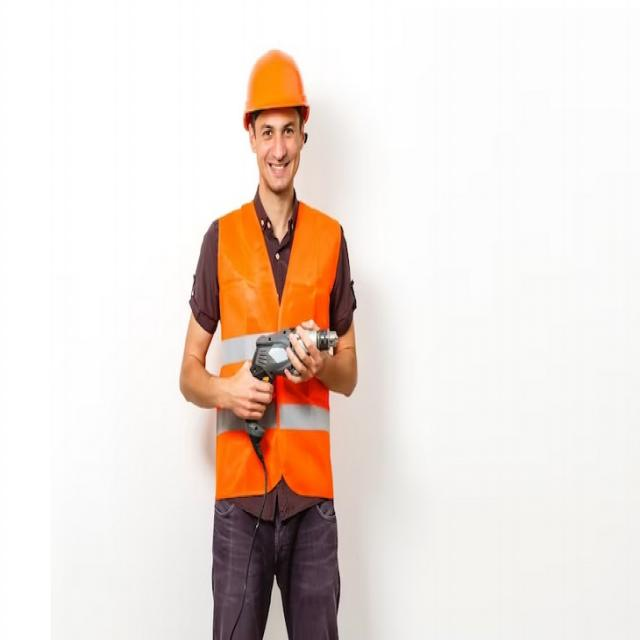helmet: (236, 40, 314, 134)
